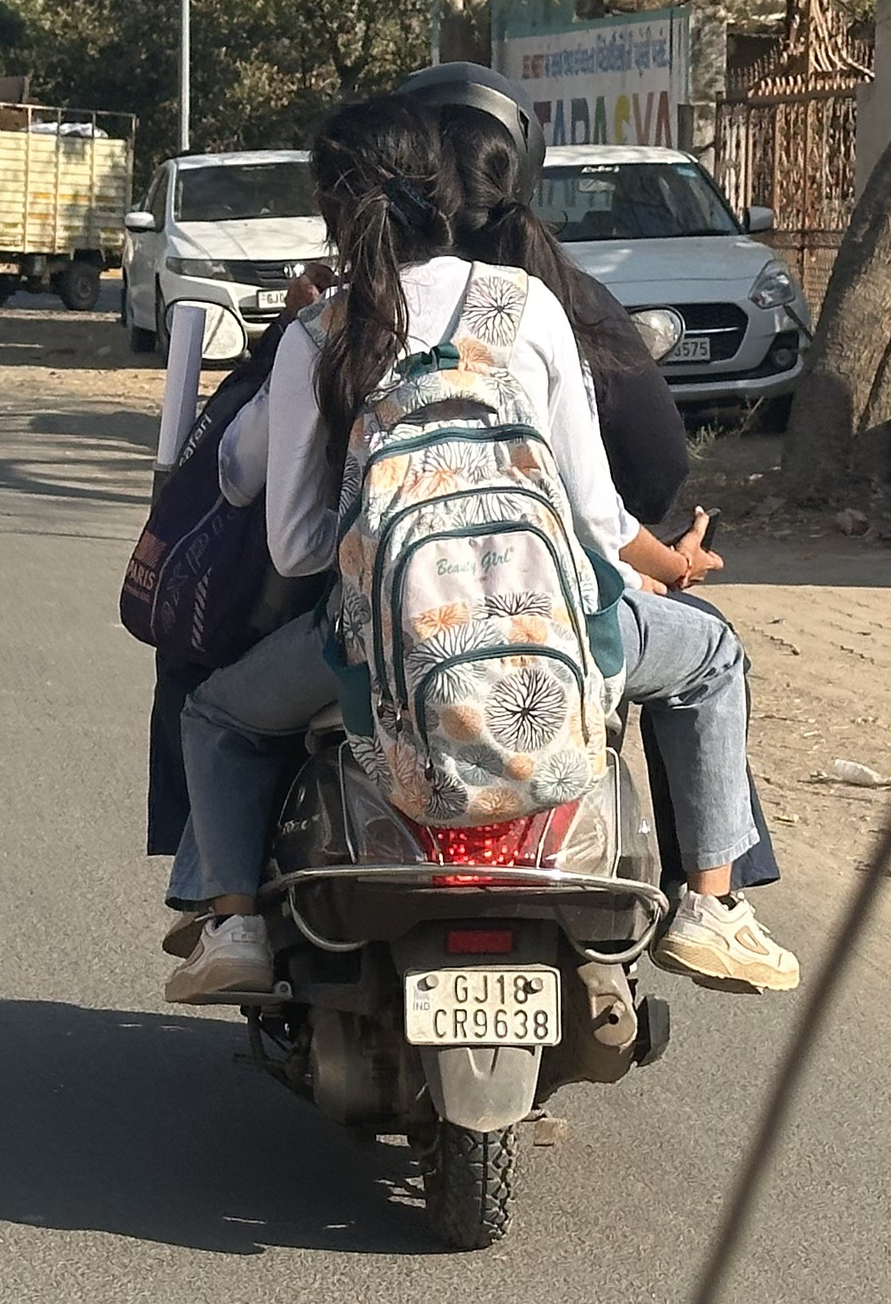BikeWithRider: (105, 50, 818, 1262)
Helmet: (390, 54, 555, 223)
NoHelmet: (287, 83, 481, 283)
